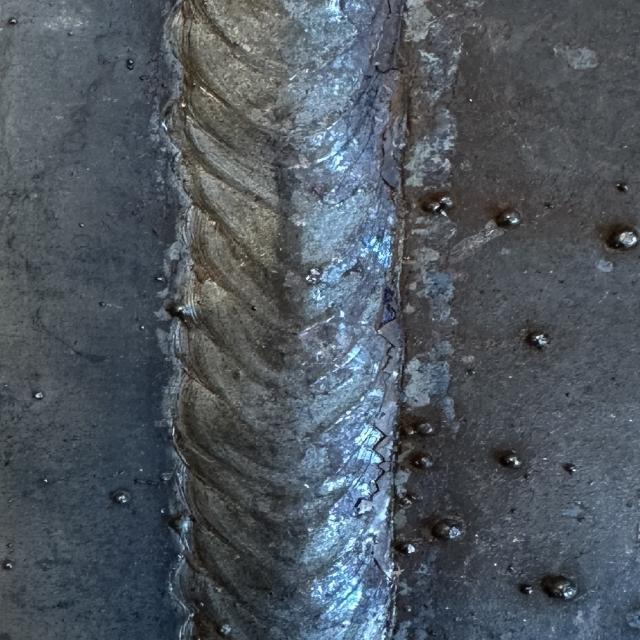Spatters: (540, 575, 577, 598), (432, 519, 465, 540), (165, 300, 192, 321), (168, 512, 193, 534), (610, 231, 638, 249), (495, 209, 522, 227), (423, 196, 453, 212), (525, 331, 550, 349), (410, 452, 433, 469), (500, 455, 522, 469), (110, 490, 132, 504), (417, 422, 433, 435), (562, 462, 577, 474), (400, 544, 417, 554), (440, 196, 453, 209), (218, 624, 232, 636), (518, 584, 533, 595), (563, 464, 577, 475), (32, 390, 45, 400), (617, 182, 628, 192), (2, 561, 13, 570), (33, 391, 45, 399), (127, 59, 135, 70), (7, 18, 18, 25), (543, 202, 553, 209), (98, 301, 108, 308), (155, 276, 165, 282), (133, 614, 140, 622), (467, 368, 475, 375), (78, 222, 85, 228), (67, 31, 75, 36), (138, 325, 145, 330), (565, 391, 570, 397), (468, 98, 473, 102)
